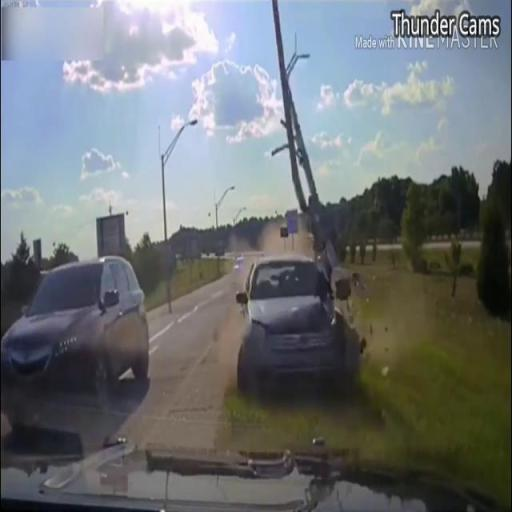小汽车: (3, 259, 151, 418), (228, 258, 363, 391)
